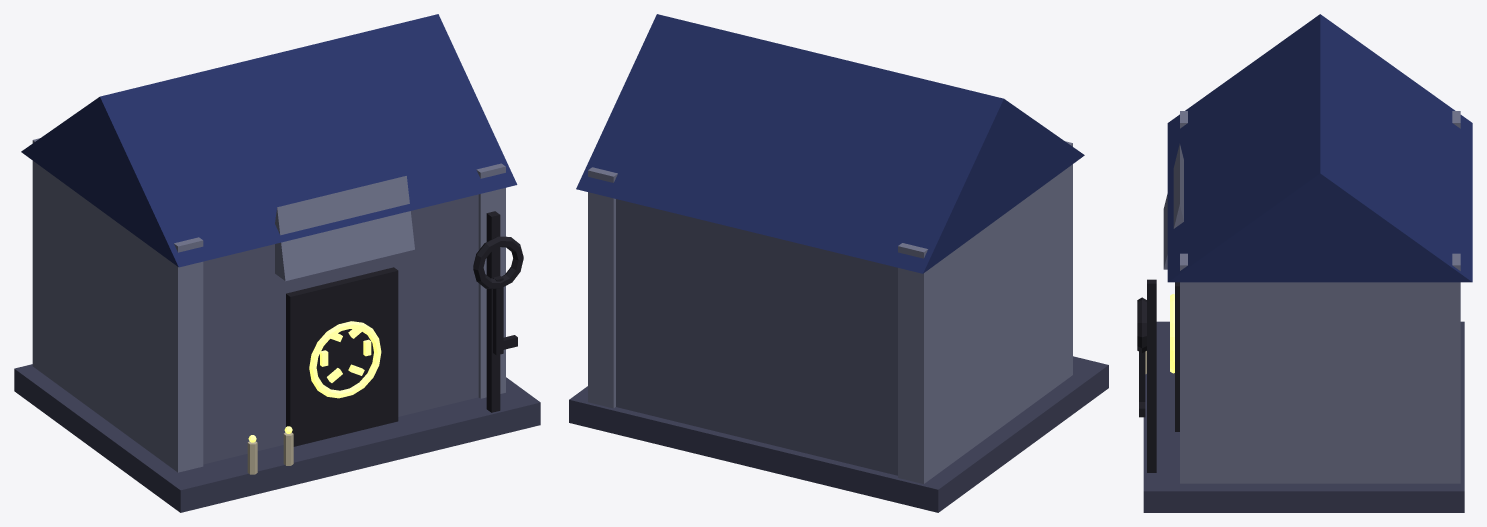
The model's file is kms-crypt-vault.glb.
3 views of the same model, side by side, from view 1: azimuth 30°, elevation 25°; view 2: azimuth 150°, elevation 25°; view 3: azimuth 270°, elevation 25° (orthographic). The views are drawn at different scales.
Parts seen in each view (by area): view 1: cw_paint, cw_glow; view 2: cw_paint; view 3: cw_paint, cw_glow.
Boxes of the visible parts, bbox=[...] form: cw_paint: bbox=[14, 14, 540, 512]; cw_glow: bbox=[248, 321, 381, 442]; cw_paint: bbox=[569, 14, 1108, 512]; cw_paint: bbox=[1137, 14, 1472, 512]; cw_glow: bbox=[1170, 294, 1174, 373].
Bounding box in the file's own units: 5 × 4.6 × 4.18.
